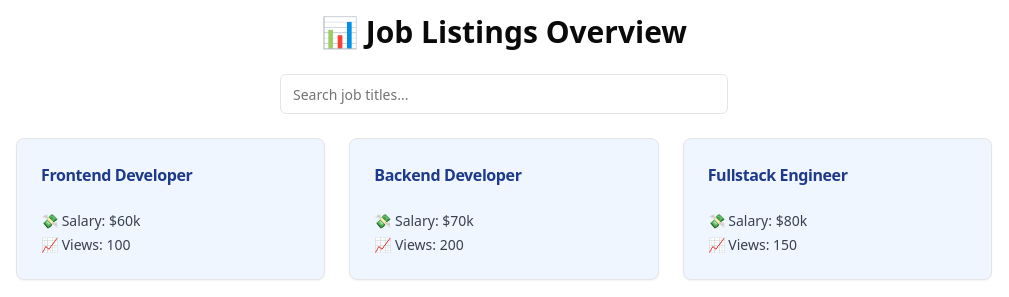
Test: JobOverviewPage › filters jobs based on search input
Expected: the text "Frontend Developer" is shown, [41,164,192,186]
Expected: the text "Backend Developer" is shown, [374,164,522,186]
Type "backend" into the field with placeholder "Search job titles..." at coordinates (504, 94), box [280,74,728,114]
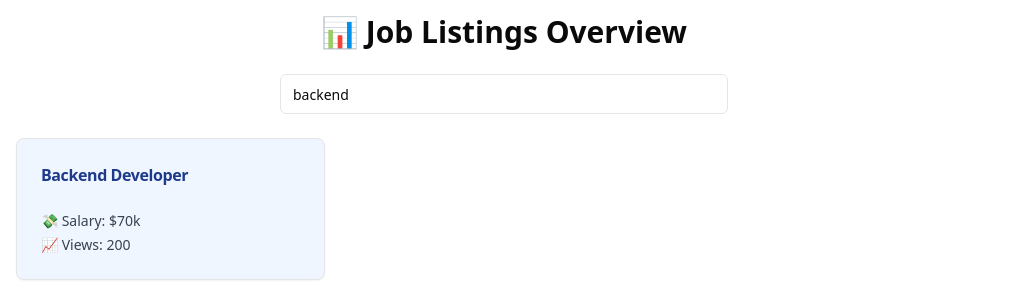
Expected: the text "Backend Developer" is shown, [41,164,188,186]
Expected: the link "Frontend Developer" is gone
Expected: the link "Fullstack Engineer" is gone
